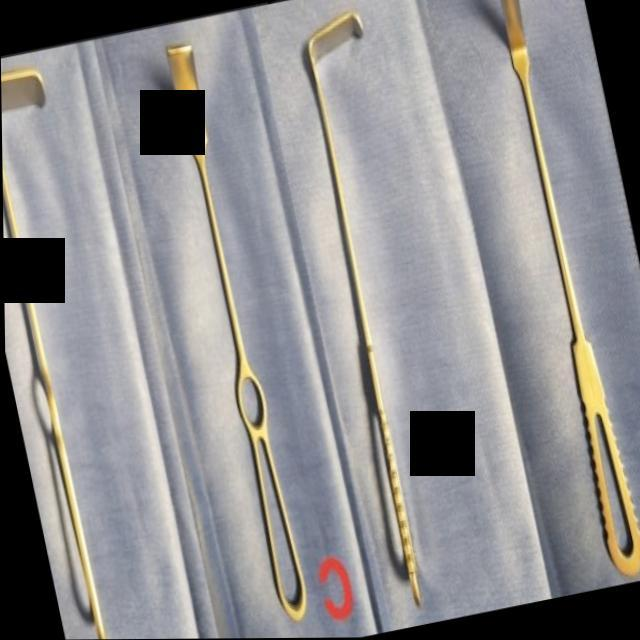Langenbach Retractor: (282, 0, 483, 614), (483, 0, 640, 588), (159, 34, 313, 626)
